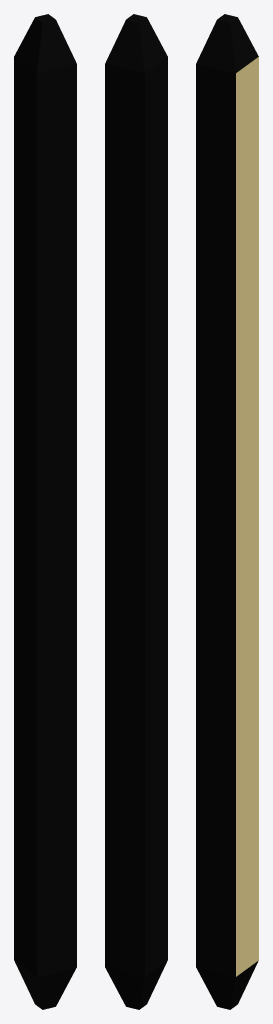
The model's file is Fan Header, 4Pin, 2.54mm, Vertical.obj.
The picture shows the model from 3 angles, left to right: view 1: azimuth 30°, elevation 25°; view 2: azimuth 150°, elevation 25°; view 3: azimuth 330°, elevation 25°; orthographic projection.
Visible parts, largest first — view 1: Fan_Header,_4Pin,_2.54mm,_Vertical; view 2: Fan_Header,_4Pin,_2.54mm,_Vertical; view 3: Fan_Header,_4Pin,_2.54mm,_Vertical.
Part boxes in pixels (x1,y1,x2,y2): Fan_Header,_4Pin,_2.54mm,_Vertical: (14,14,76,1009); Fan_Header,_4Pin,_2.54mm,_Vertical: (105,14,167,1009); Fan_Header,_4Pin,_2.54mm,_Vertical: (196,14,258,1009).
Size of the model in its own units: 0.00051 by 0.0121 by 0.00051.
